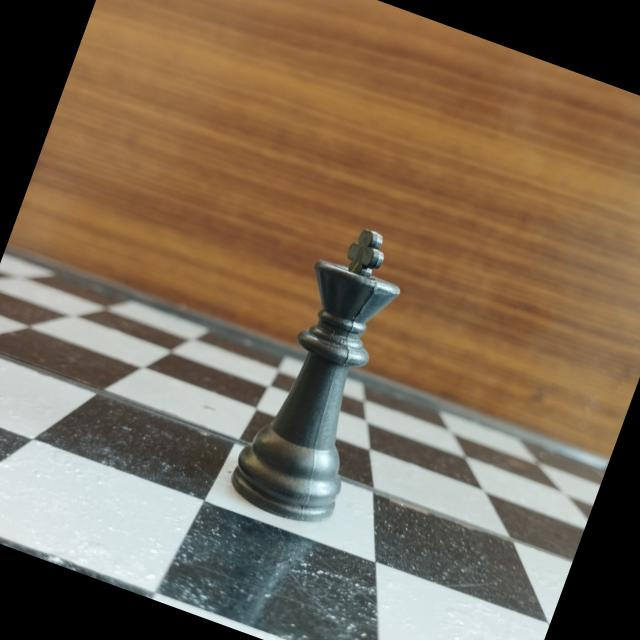Black King: (215, 201, 442, 540)
